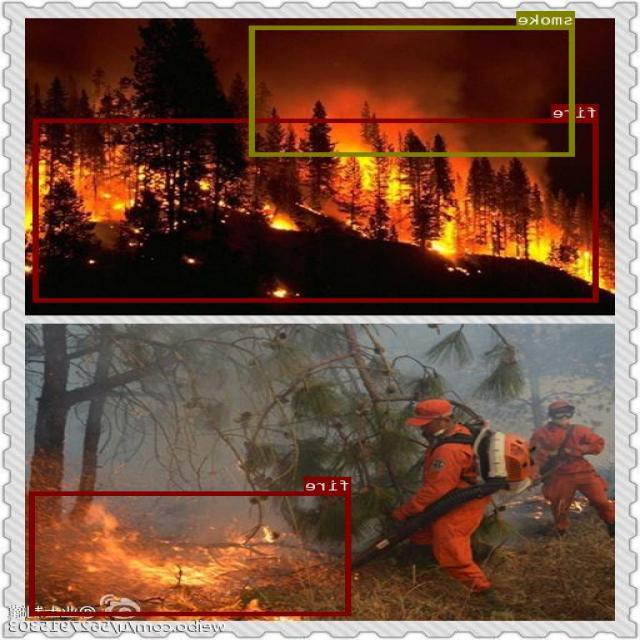fire: (34, 118, 600, 301), (31, 491, 352, 615)
smoke: (251, 26, 576, 156)
